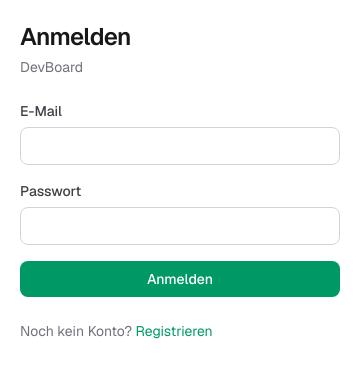
Test case: Anmeldeseite › lehnt eine ungueltige E-Mail-Adresse ab, ohne den Server zu fragen
Step 1. Type "keine-adresse" into the field labelled "E-Mail" → x=180, y=146, box top-left (20, 127), bottom-right (340, 165)
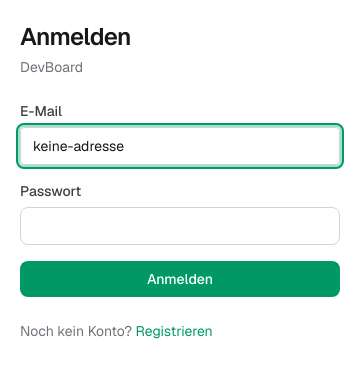
Step 2. Type "geheim12345" into the password field labelled "Passwort" → x=180, y=226, box top-left (20, 207), bottom-right (340, 245)
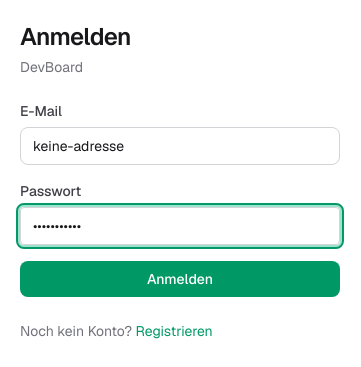
Step 3. Click the button "Anmelden" → x=180, y=279, box top-left (20, 261), bottom-right (340, 297)
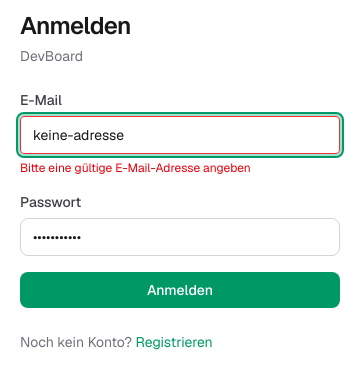
Expected: the text "Bitte eine gültige E-Mail-Adresse angeben" is shown, top-left (20, 160), bottom-right (251, 176)
